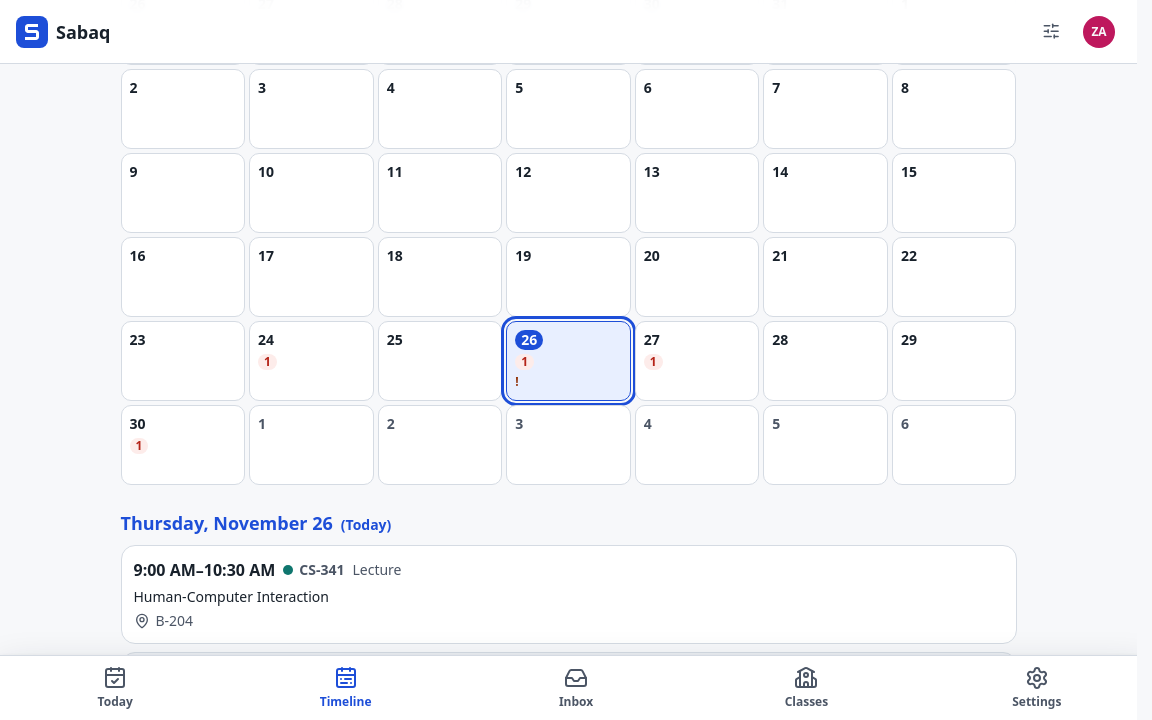
Timeline › shows a month grid that arrow keys move through
(page scrolled)
Expected: the heading "Thursday, November 26 (Today)" is shown, [120, 511, 391, 535]
Press ArrowDown in the button named "Thursday, November 26, 1 task due, class changes", box [506, 321, 631, 401]
(page scrolled)
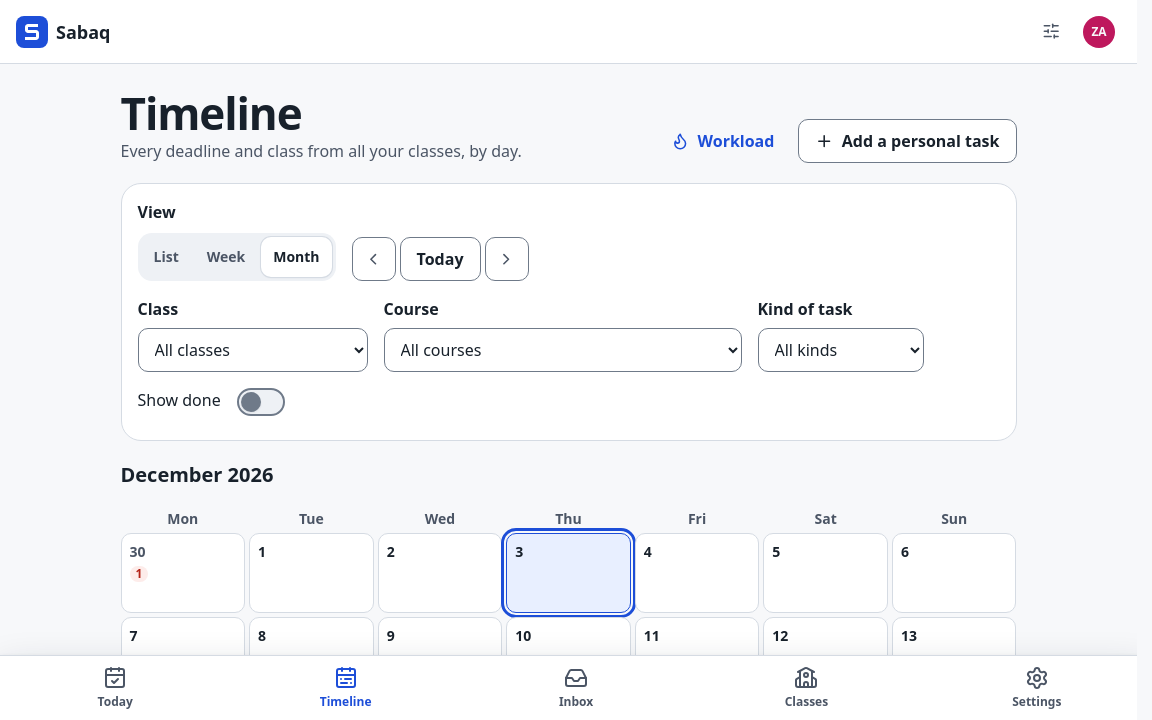
Now the button named "Thursday, December 3," is pressed
Press ArrowLeft in the button named "Thursday, December 3,", box [506, 533, 631, 613]
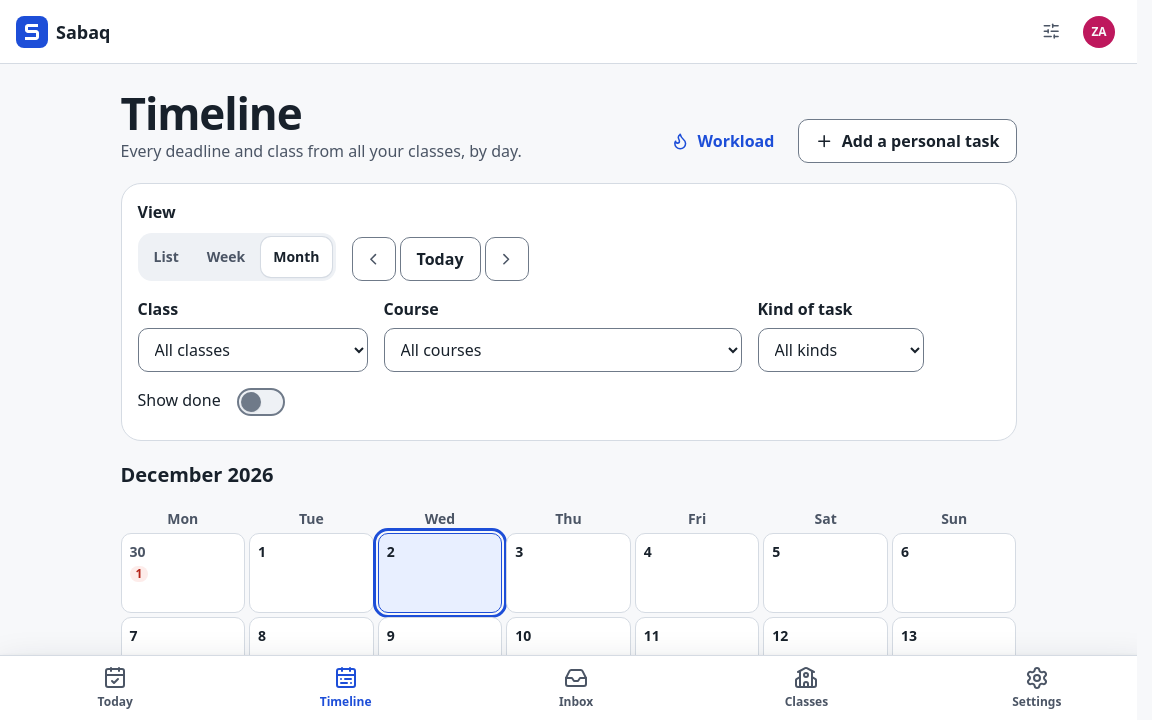
Now the heading "December 2026" is shown, box [120, 461, 273, 488]
Click the button named "Previous month". click: (374, 259)
box: [352, 237, 396, 281]
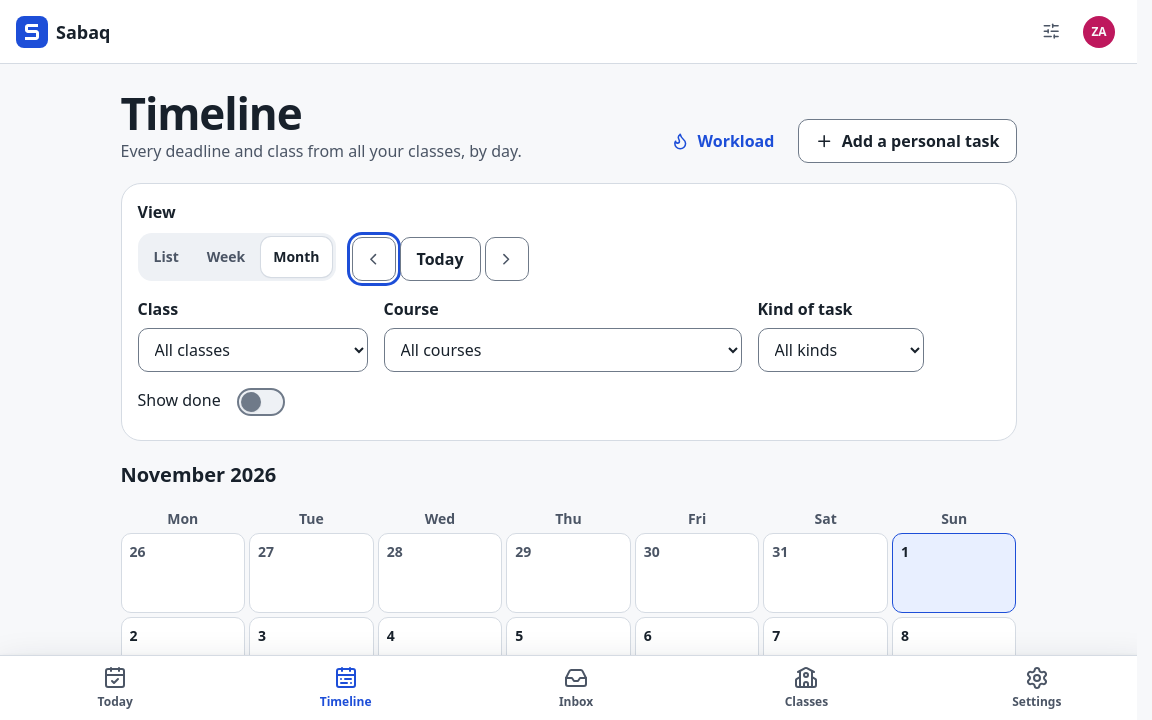
Now the heading "November 2026" is shown, box [120, 461, 276, 488]
Click the button named "Next month". click: (506, 259)
box: [484, 237, 528, 281]
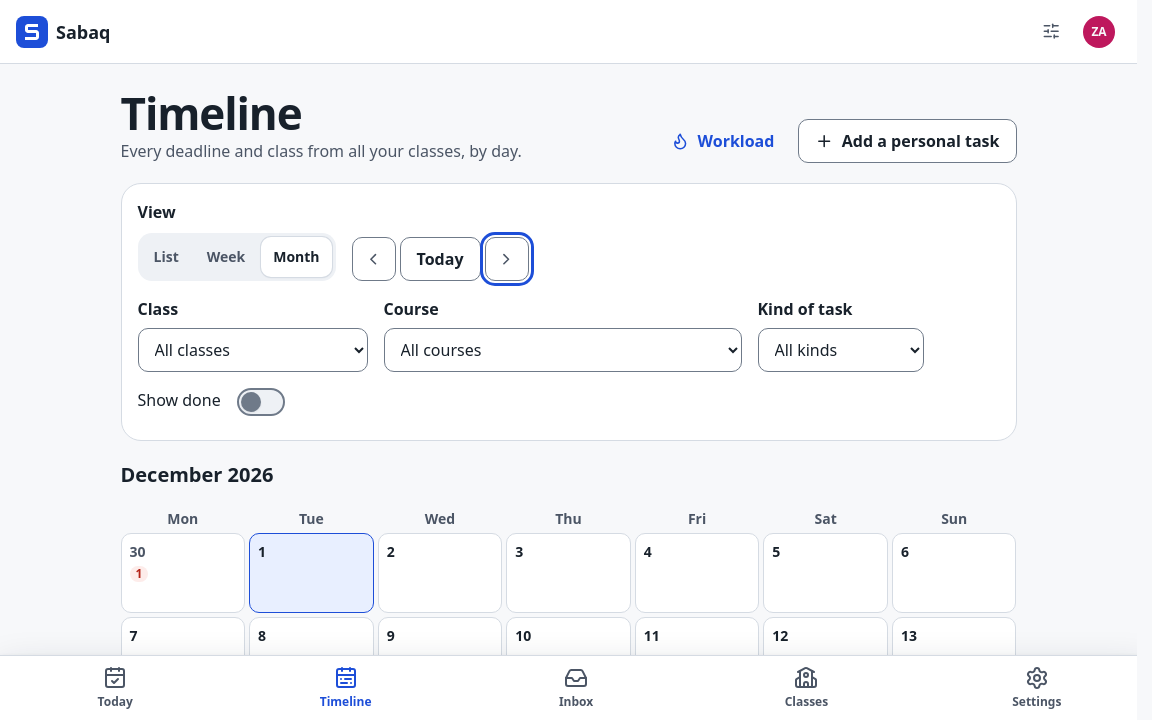
Now the heading "December 2026" is shown, box [120, 461, 273, 488]
